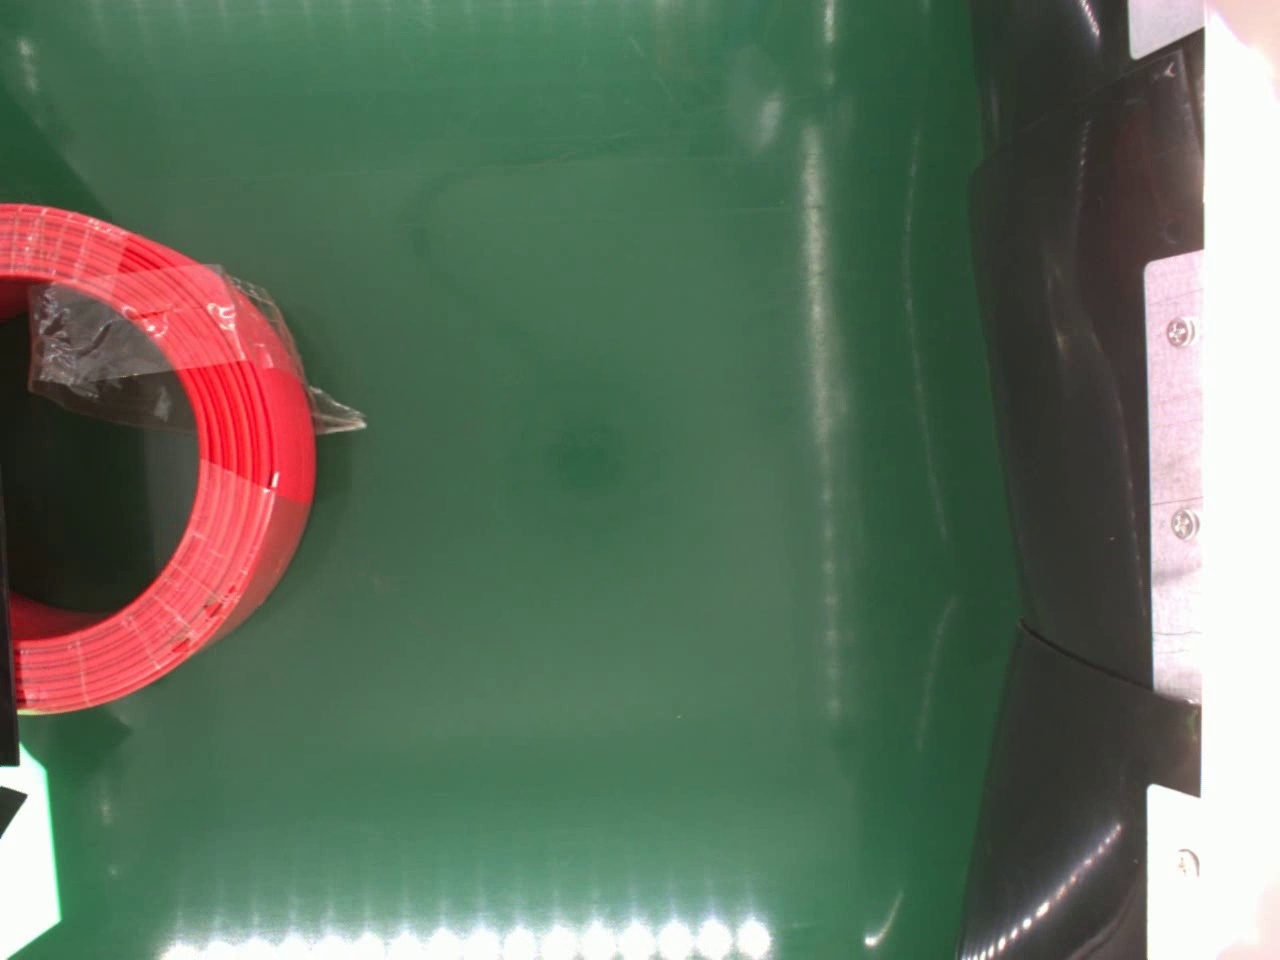red: (0, 201, 312, 717)
